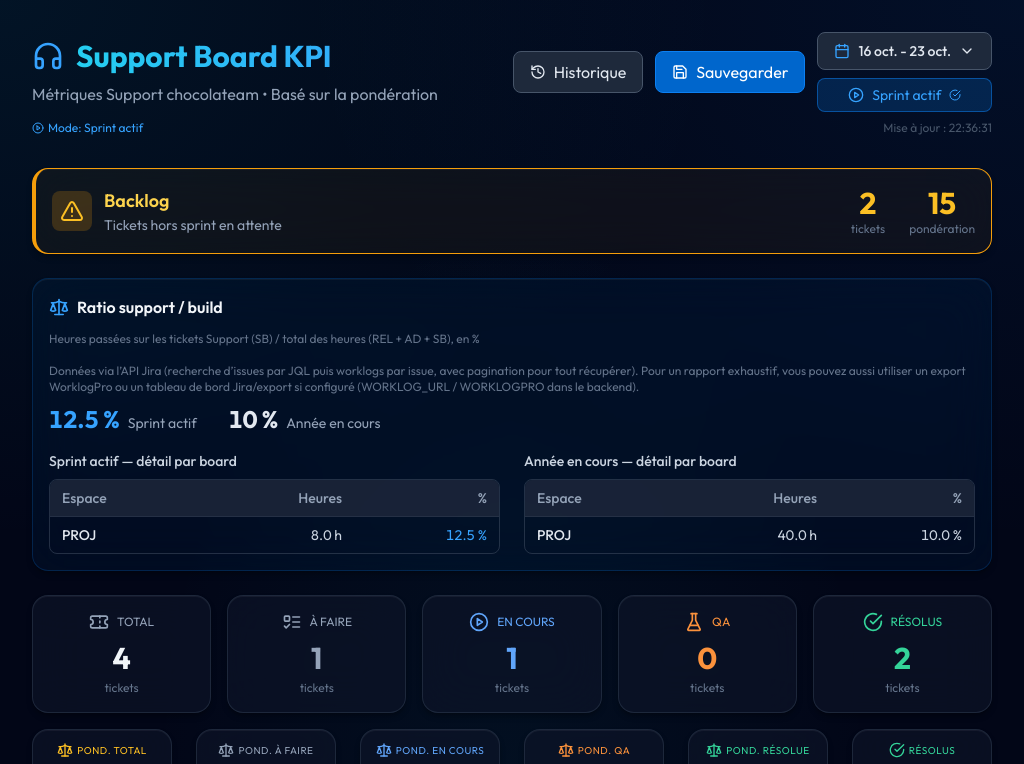
Test: SupportDashboard › ouvre la modale historique et affiche les snapshots support
Click the button "Historique" at (578, 72), box [513, 51, 643, 93]
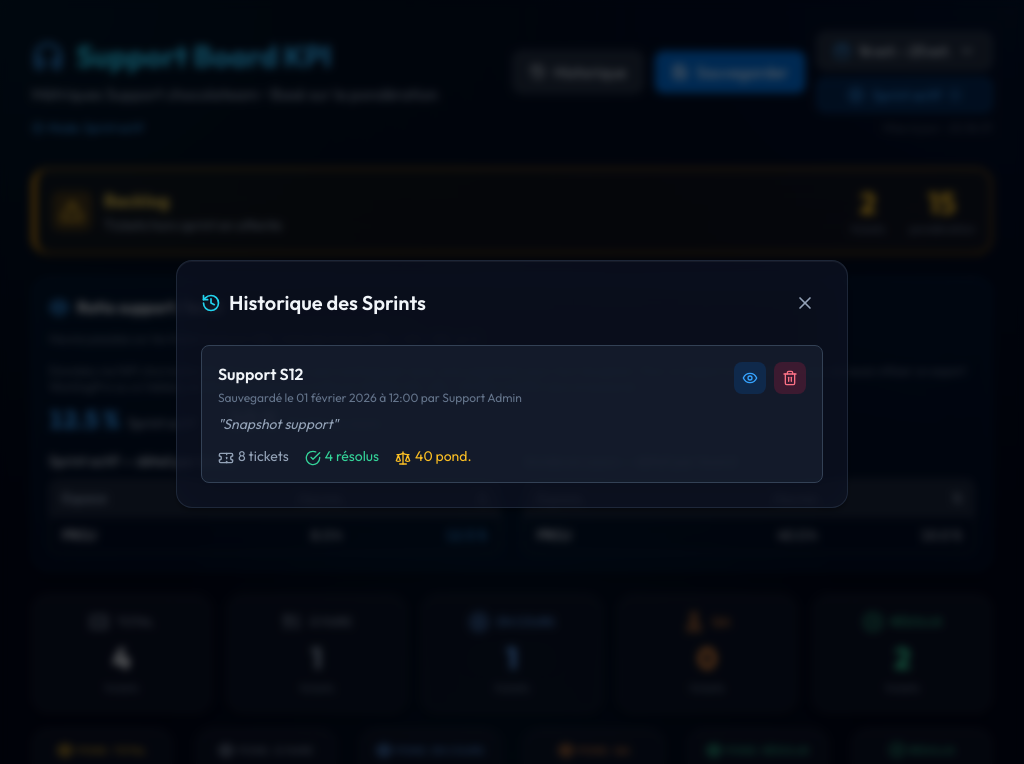
Expected: the heading "Historique des Sprints" is shown, [201, 289, 426, 317]
Expected: the heading "Support S12" is shown, [218, 364, 303, 384]
